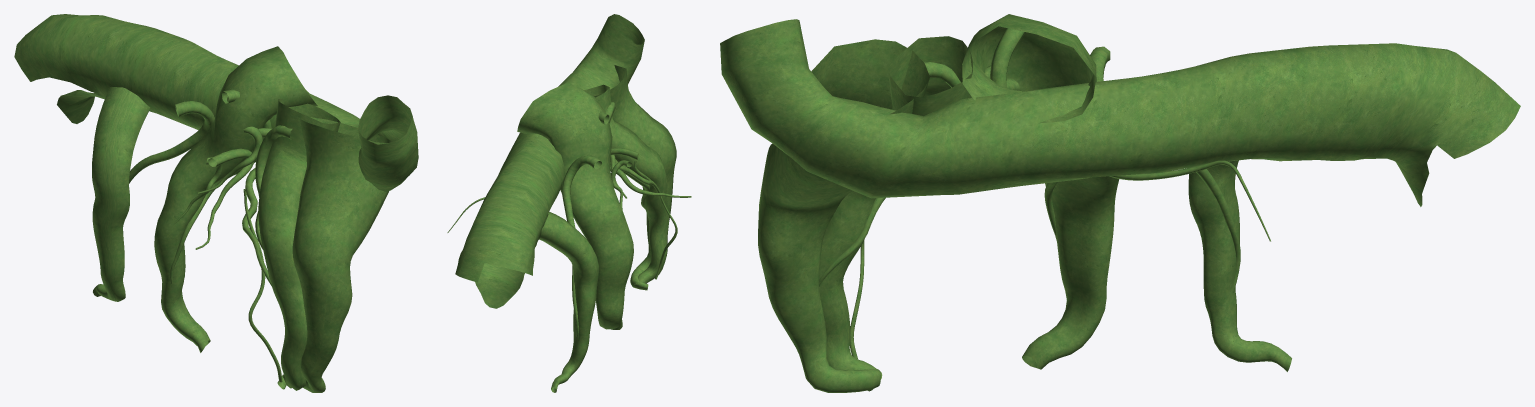
The model's file is SM_ENV_KNFRST_MassiveRootsIn_A.FBX.
3 views of the same model, side by side, from view 1: azimuth 30°, elevation 25°; view 2: azimuth 150°, elevation 25°; view 3: azimuth 270°, elevation 25° (orthographic). The views are drawn at different scales.
Visible parts, largest first — view 1: SM_ENV_KNFRST_MassiveRootsIn_A; view 2: SM_ENV_KNFRST_MassiveRootsIn_A; view 3: SM_ENV_KNFRST_MassiveRootsIn_A.
Part boxes in pixels (<box>): SM_ENV_KNFRST_MassiveRootsIn_A: <box>14,14,418,392</box>; SM_ENV_KNFRST_MassiveRootsIn_A: <box>447,14,691,392</box>; SM_ENV_KNFRST_MassiveRootsIn_A: <box>720,14,1520,392</box>.
Size of the model in its own units: 1974 by 3093 by 5255.
